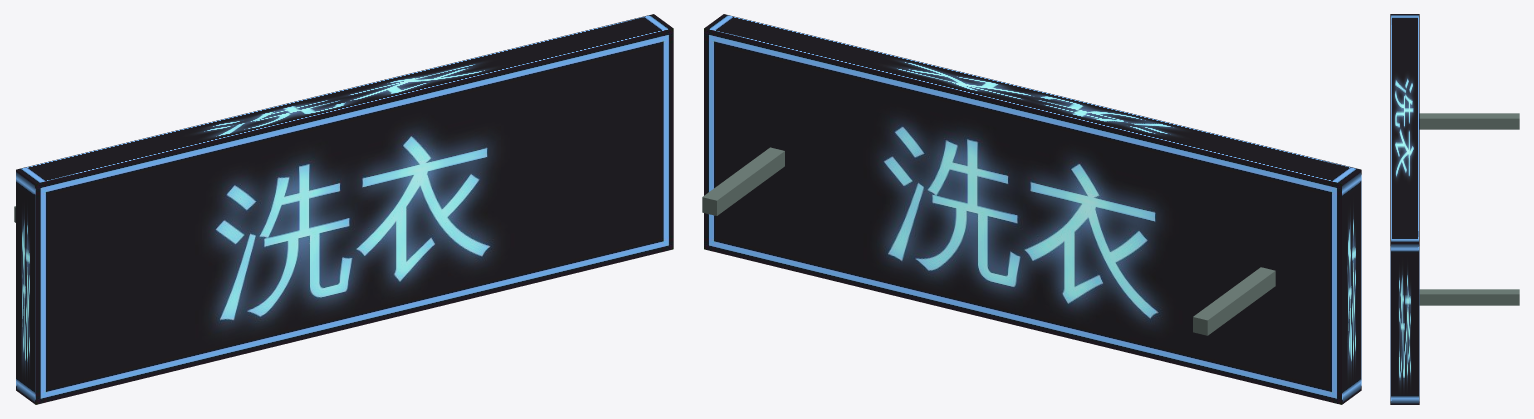
The model's file is sign_7.glb.
The picture shows the model from 3 angles, left to right: view 1: azimuth 30°, elevation 25°; view 2: azimuth 150°, elevation 25°; view 3: azimuth 270°, elevation 25°; orthographic projection. The views are drawn at different scales.
Visible parts, largest first — view 1: sign_7; view 2: sign_7; view 3: sign_7.
Boxes of the visible parts, <box> form: sign_7: <box>14,14,673,404</box>; sign_7: <box>702,14,1361,404</box>; sign_7: <box>1390,14,1519,404</box>.
Size of the model in its own units: 2.6 by 0.86 by 0.62.
Materials: 2 (1 with a texture image).
